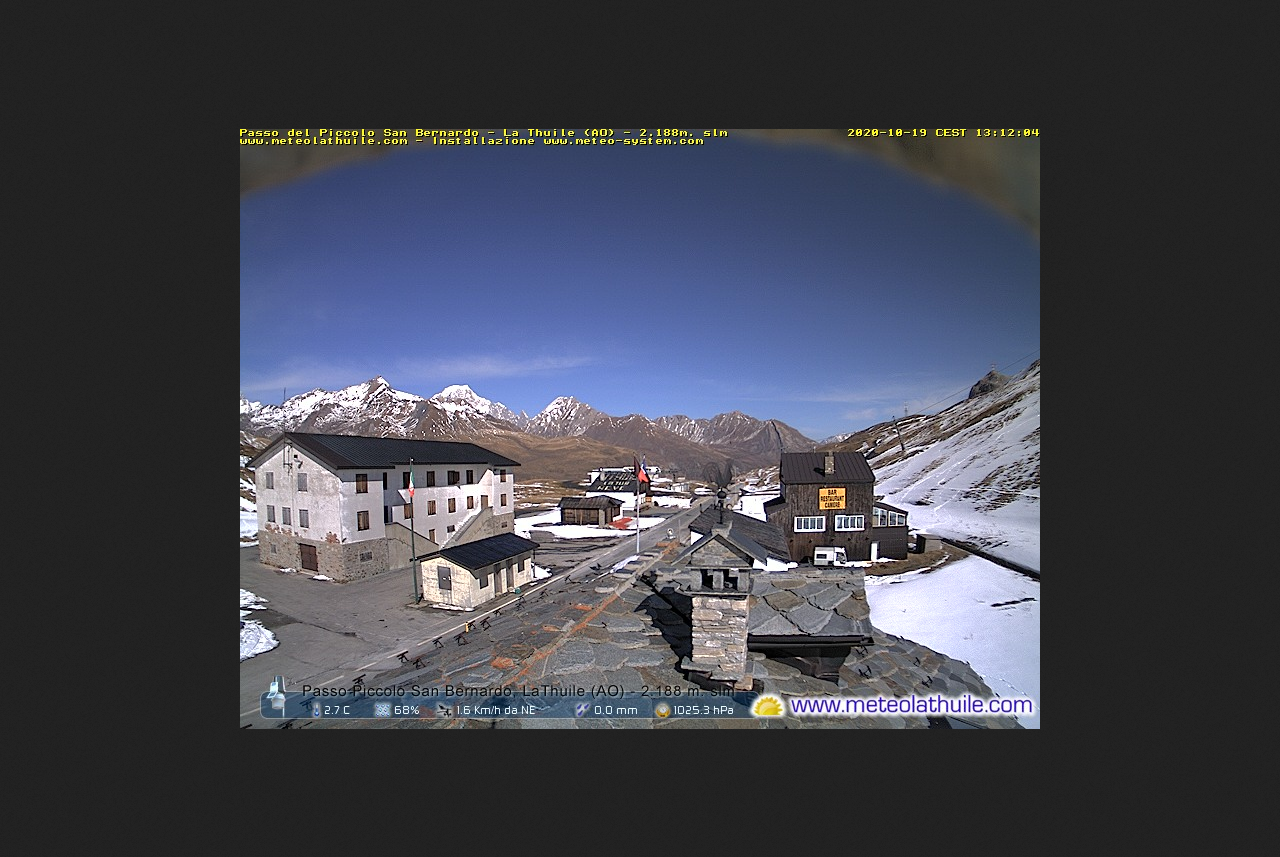no: (403, 469, 418, 498), (634, 459, 647, 481)
